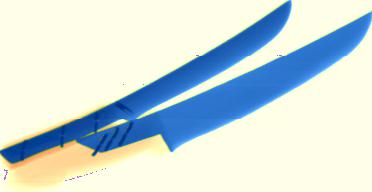Knife: (6, 8, 371, 189), (1, 1, 292, 165)
